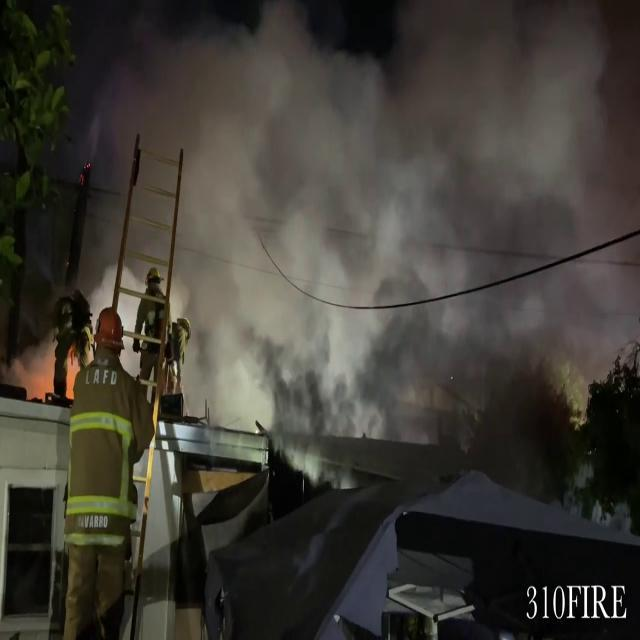Smoke: (157, 0, 636, 480)
